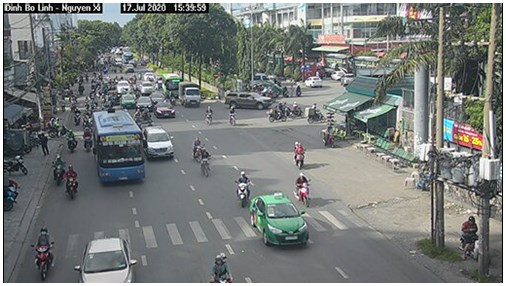xe_buyt: (92, 109, 144, 184)
xe_hoi: (143, 125, 176, 161), (223, 89, 272, 109), (156, 102, 177, 119)
xe_may: (32, 223, 56, 282), (292, 170, 314, 207), (64, 162, 84, 201), (235, 167, 254, 207), (289, 136, 311, 168), (49, 153, 66, 186), (306, 97, 325, 124), (198, 147, 215, 177), (190, 133, 203, 161), (65, 127, 78, 154), (82, 126, 93, 154), (227, 105, 238, 129), (204, 104, 214, 126)
xe_tai: (178, 80, 201, 108)
